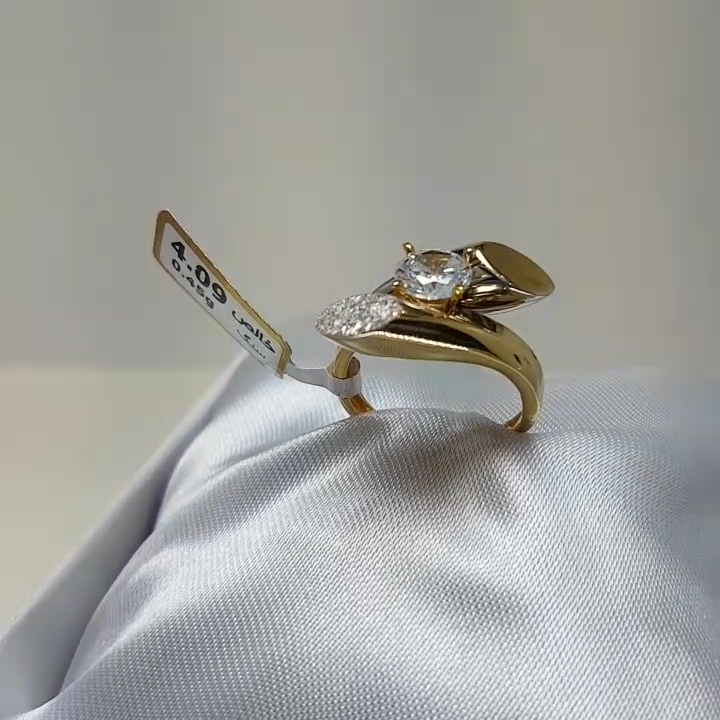Ring 7: (302, 210, 577, 465)
